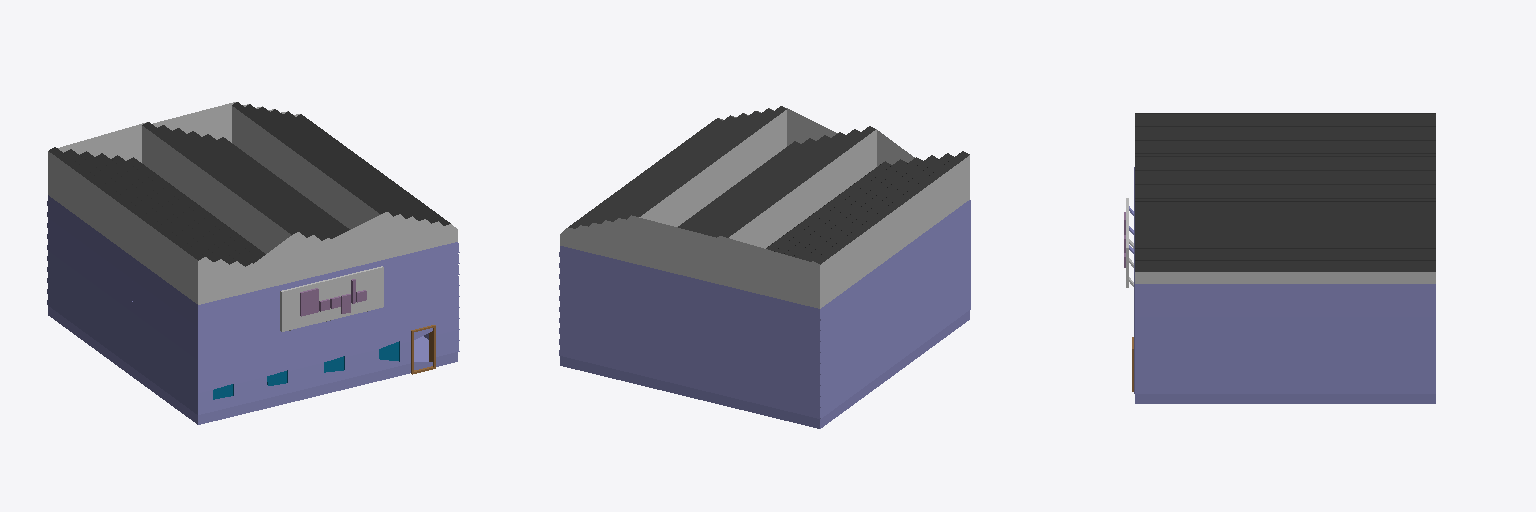
Rendered from industry.obj.
3 renders of one model, left to right at view 1: azimuth 30°, elevation 25°; view 2: azimuth 150°, elevation 25°; view 3: azimuth 270°, elevation 25°, orthographic.
Visible parts, largest first — view 1: Plane; view 2: Plane; view 3: Plane.
Boxes of the visible parts, <box> form: Plane: <box>47,102,459,424</box>; Plane: <box>559,106,970,428</box>; Plane: <box>1124,113,1435,403</box>.
Bounding box in the file's own units: 23.33 × 14.41 × 24.18.